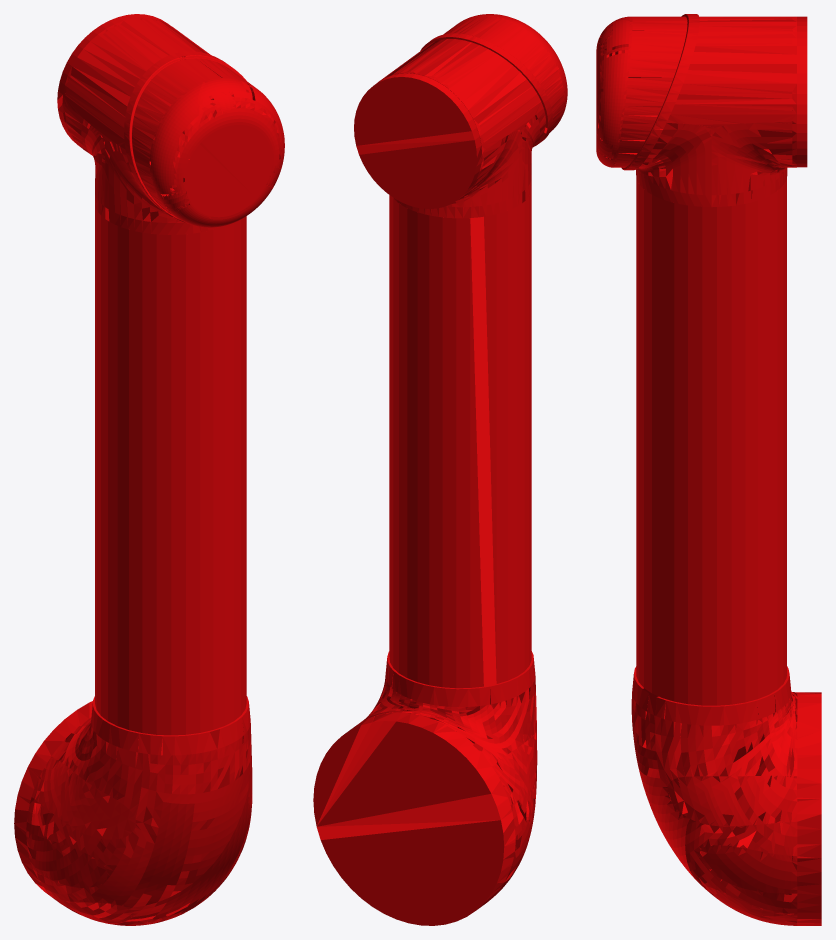
3 renders of one model, left to right at view 1: azimuth 30°, elevation 25°; view 2: azimuth 150°, elevation 25°; view 3: azimuth 270°, elevation 25°, orthographic. The views are drawn at different scales.
Parts seen in each view (by area): view 1: 3; view 2: 3; view 3: 3.
Part boxes in pixels (left/top/right/bottom): 3: left=14, top=14, right=284, bottom=925; 3: left=313, top=14, right=567, bottom=925; 3: left=596, top=14, right=821, bottom=925.
Bounding box in the file's own units: 0.116 × 0.4892 × 0.1117.
